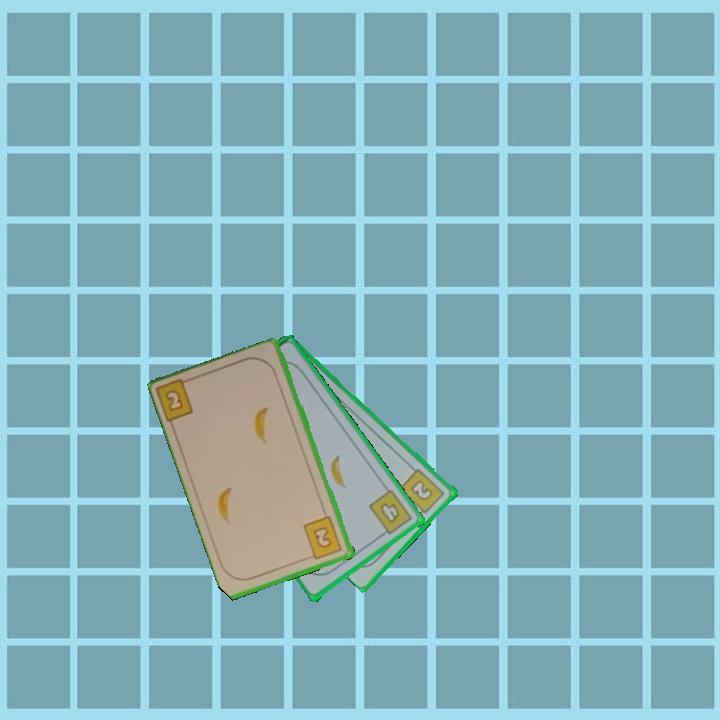2b: (396, 465, 448, 520), (154, 374, 198, 426), (300, 513, 345, 562)
4b: (366, 486, 416, 540)
